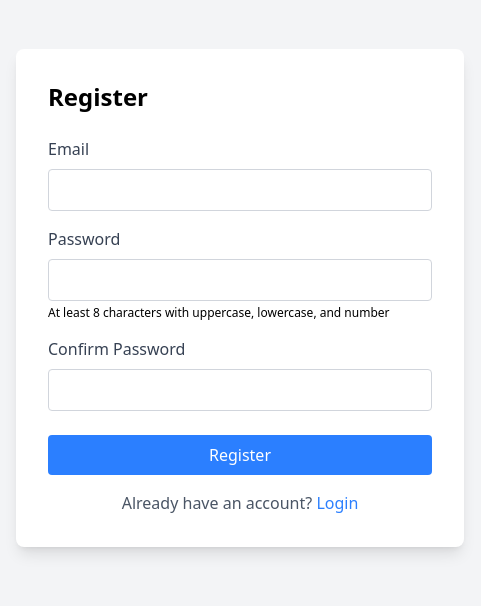
Scenario: RegisterPage › should show error when email already exists
This screenshot has width=481, height=606.
Type "test@example.com" into the field labelled "Email" at [240, 190], box x1=48 y1=169 x2=432 y2=211
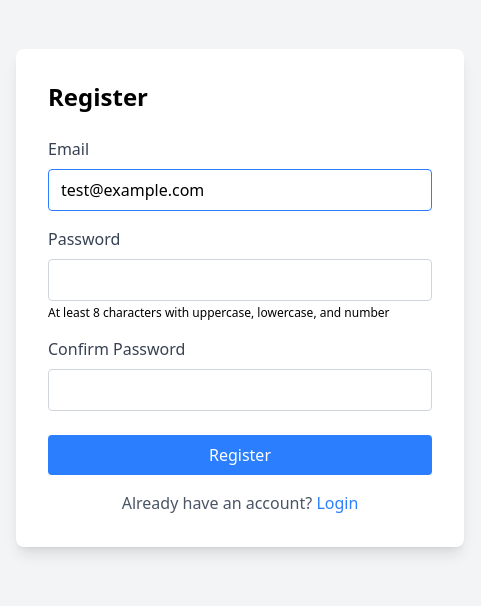
Type "Test1234!" into the password field labelled "Password" at [240, 280], box x1=48 y1=259 x2=432 y2=301
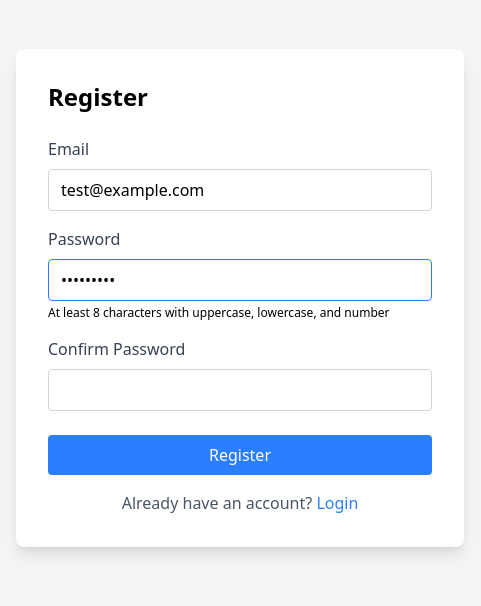
Type "Test1234!" into the password field labelled "Confirm Password" at [240, 390], box x1=48 y1=369 x2=432 y2=411
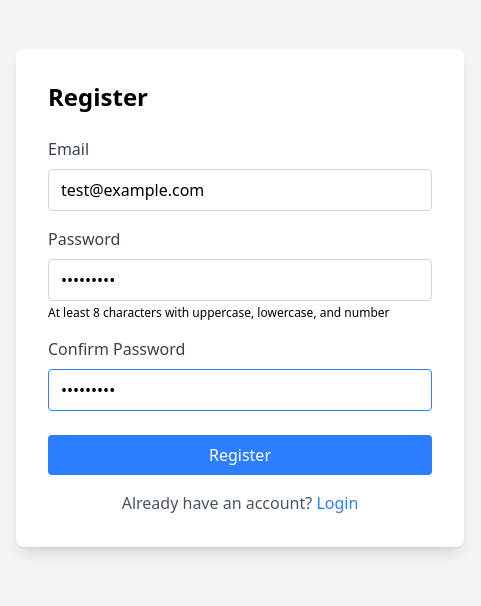
Click the button "Register" at [240, 455], box x1=48 y1=435 x2=432 y2=475
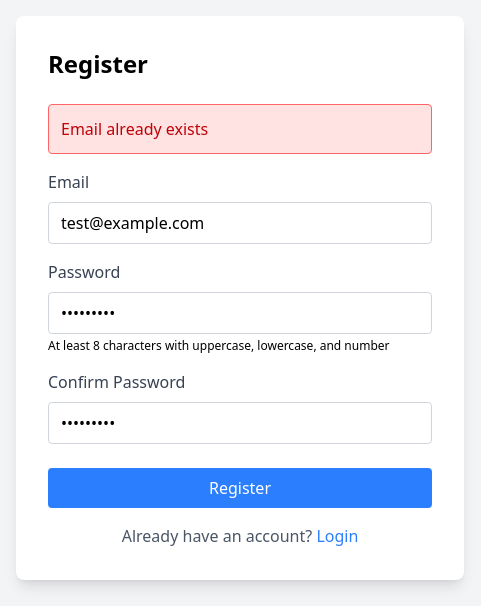
Expected: the text "Email already exists" is shown, x1=48 y1=104 x2=432 y2=154
